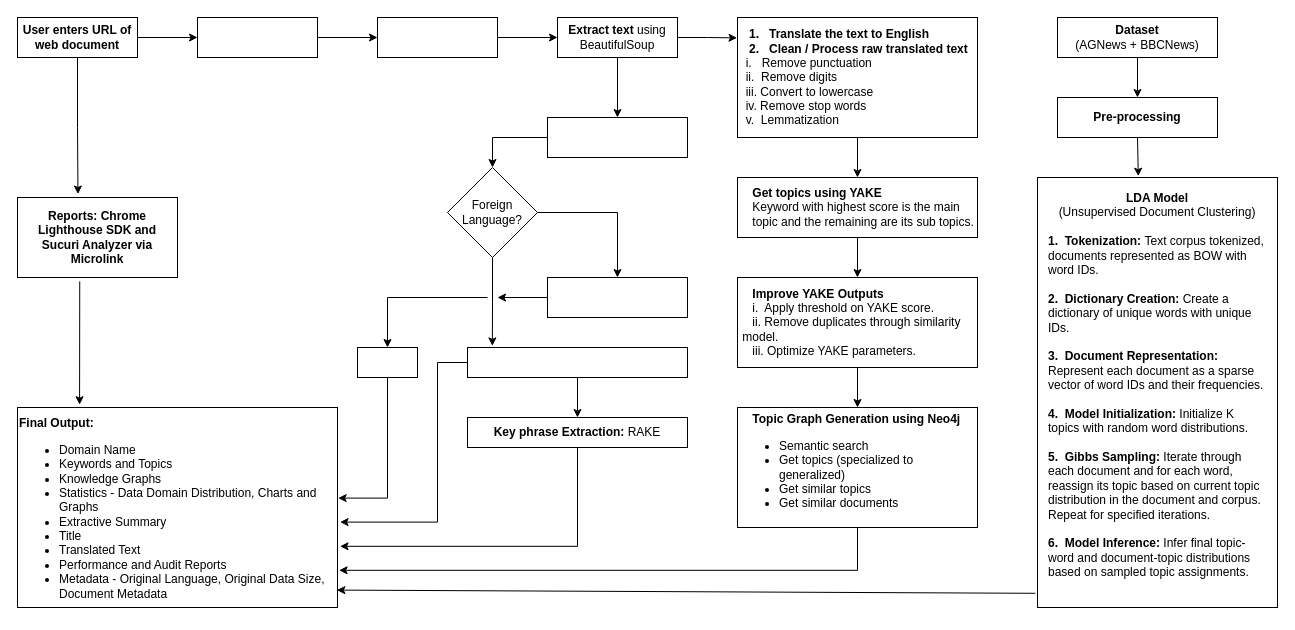
Some shapes in this 1295 by 630 pixel diagram are drawn without their labels. Each missing label, with the centre of its shape:
"Extractive Summary: TFIDF & LSA" belongs at point 577,362.
"Get Main Text and Title" belongs at point 617,137.
"HTML Document" belongs at point 437,37.
"Remove English words and translate to English" belongs at point 617,297.
"Request data from the web document" belongs at point 257,37.
"Title" belongs at point 387,362.
